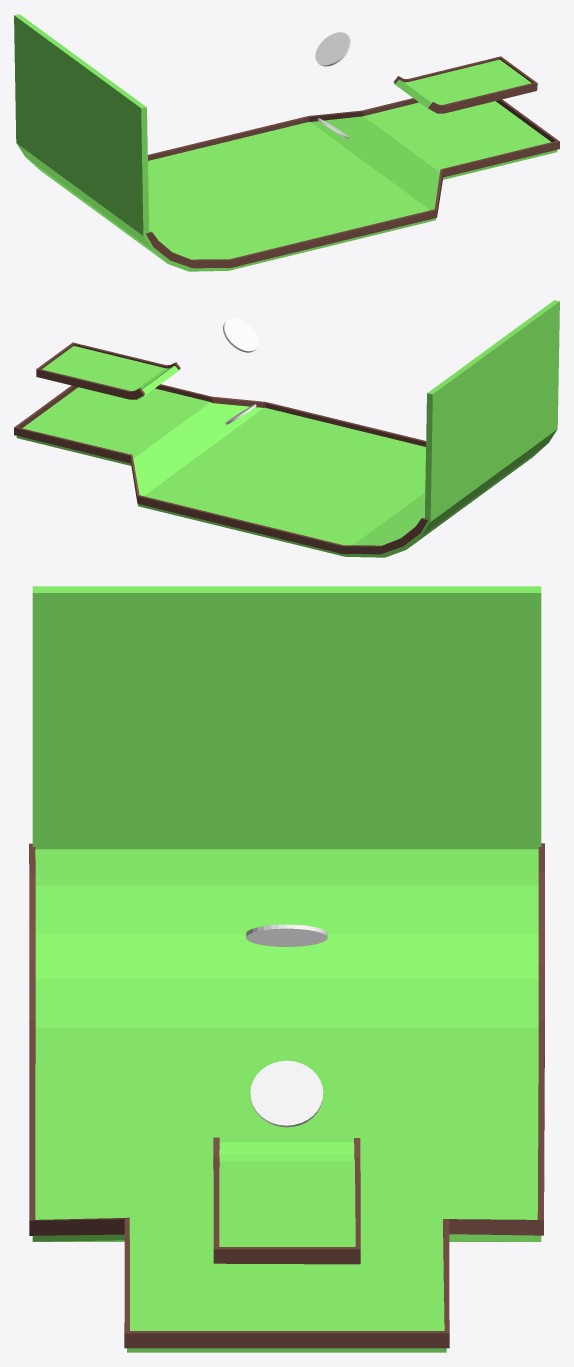
3 views of the same model, one above another, from view 1: azimuth 30°, elevation 25°; view 2: azimuth 150°, elevation 25°; view 3: azimuth 270°, elevation 25° (orthographic). The views are drawn at different scales.
Visible parts, largest first — view 1: Cube.076, Cube.078, Cube.075, Cube.077, Cylinder.039; view 2: Cube.076, Cube.078, Cube.075, Cube.077, Cylinder.039; view 3: Cube.076, Cube.078, Cube.075, Cube.077, Cylinder.040, Cylinder.039.
Boxes of the visible parts, <box> form: Cube.076: <box>14,14,557,271</box>; Cube.078: <box>146,98,559,268</box>; Cube.075: <box>394,59,531,113</box>; Cube.077: <box>393,56,537,113</box>; Cylinder.039: <box>315,32,350,66</box>; Cube.076: <box>16,300,559,557</box>; Cube.078: <box>14,384,427,554</box>; Cube.075: <box>42,346,179,399</box>; Cube.077: <box>36,342,180,399</box>; Cylinder.039: <box>223,318,258,352</box>; Cube.076: <box>32,586,541,1352</box>; Cube.078: <box>29,843,544,1348</box>; Cube.075: <box>219,1142,355,1246</box>; Cube.077: <box>213,1137,360,1264</box>; Cylinder.040: <box>250,1060,323,1127</box>; Cylinder.039: <box>246,924,327,946</box>.
Size of the model in its own units: 1914 by 761 by 968.
